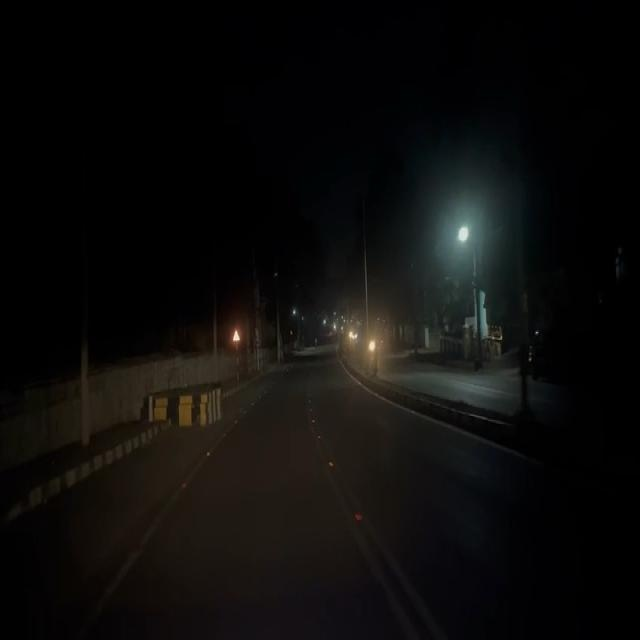bien_nguy_hiem: (231, 327, 241, 345)
